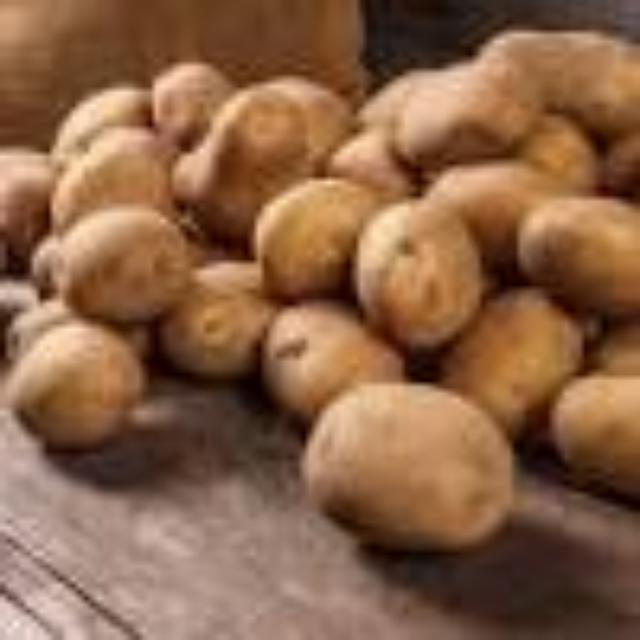Diseased-fungal potato: (300, 382, 524, 556), (346, 202, 496, 358), (5, 322, 151, 451), (46, 208, 202, 326), (240, 174, 372, 306), (510, 188, 640, 318)
